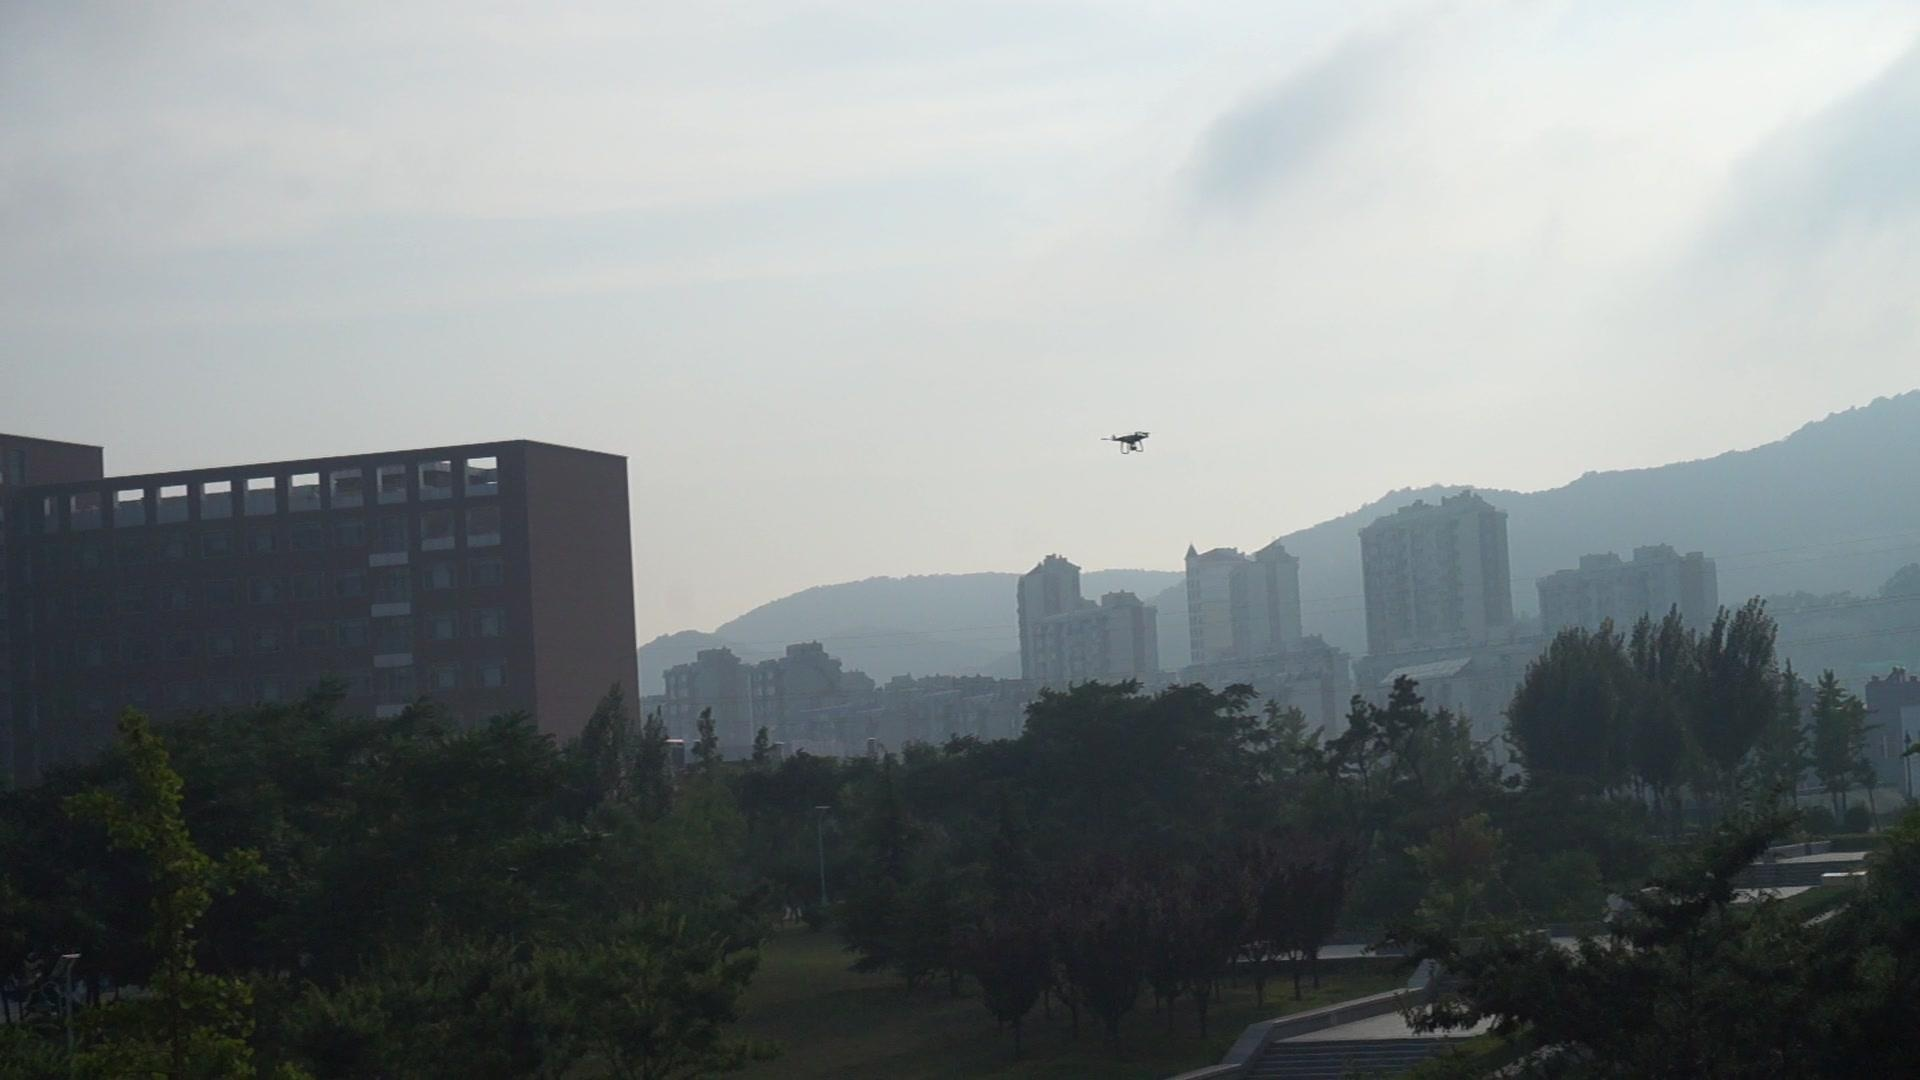UAV: (1101, 433, 1153, 456)
